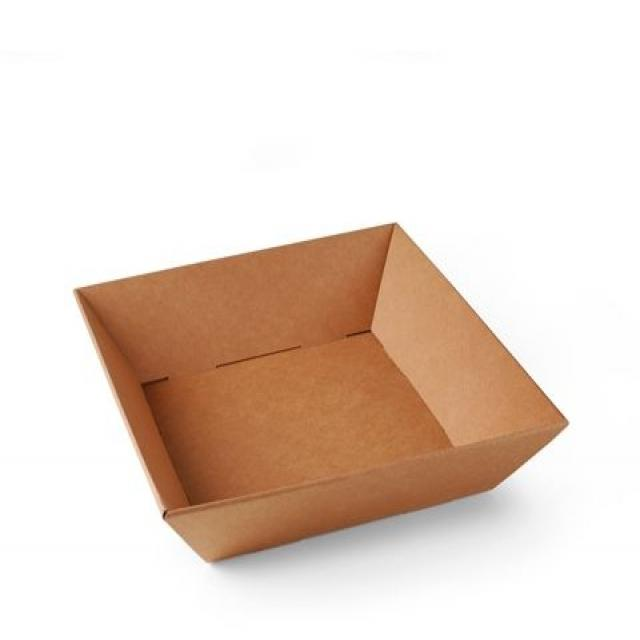Carton: (62, 226, 574, 572)
